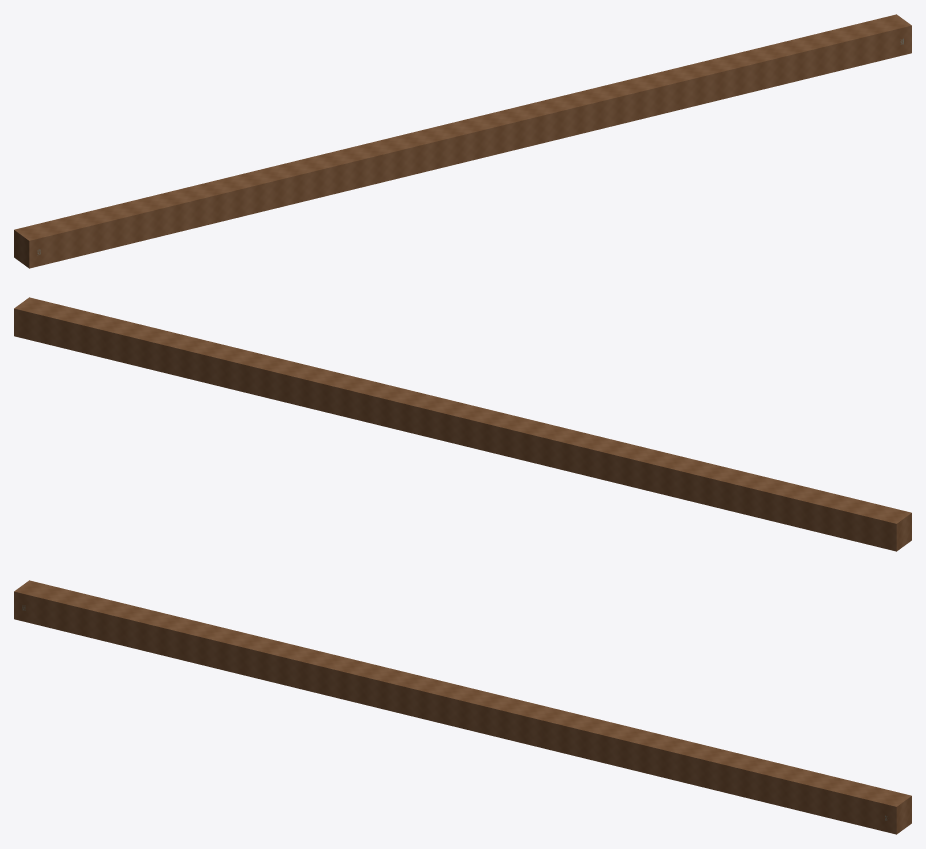
The model's file is MRP_FrameBeam_4m.fbx.
The picture shows the model from 3 angles, top to bottom: view 1: azimuth 30°, elevation 25°; view 2: azimuth 150°, elevation 25°; view 3: azimuth 330°, elevation 25°; orthographic projection.
Parts seen in each view (by area): view 1: Body; view 2: Body; view 3: Body.
Boxes of the visible parts, x1=… form: Body: x1=14, y1=14, x2=911, y2=268; Body: x1=14, y1=297, x2=911, y2=551; Body: x1=14, y1=580, x2=911, y2=834.
Bounding box in the file's own units: 4 × 0.12 × 0.12.
